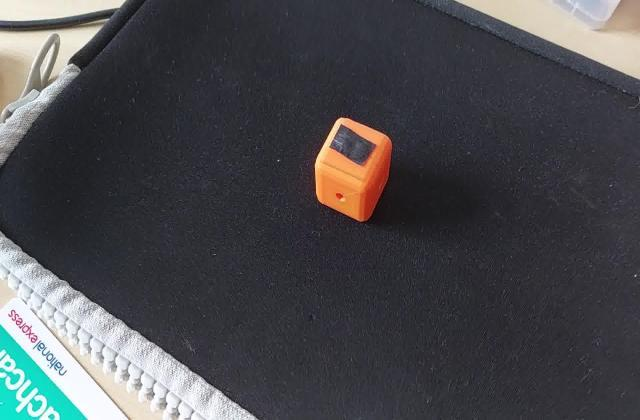black: (328, 131, 381, 168)
sticker: (314, 114, 397, 226)
